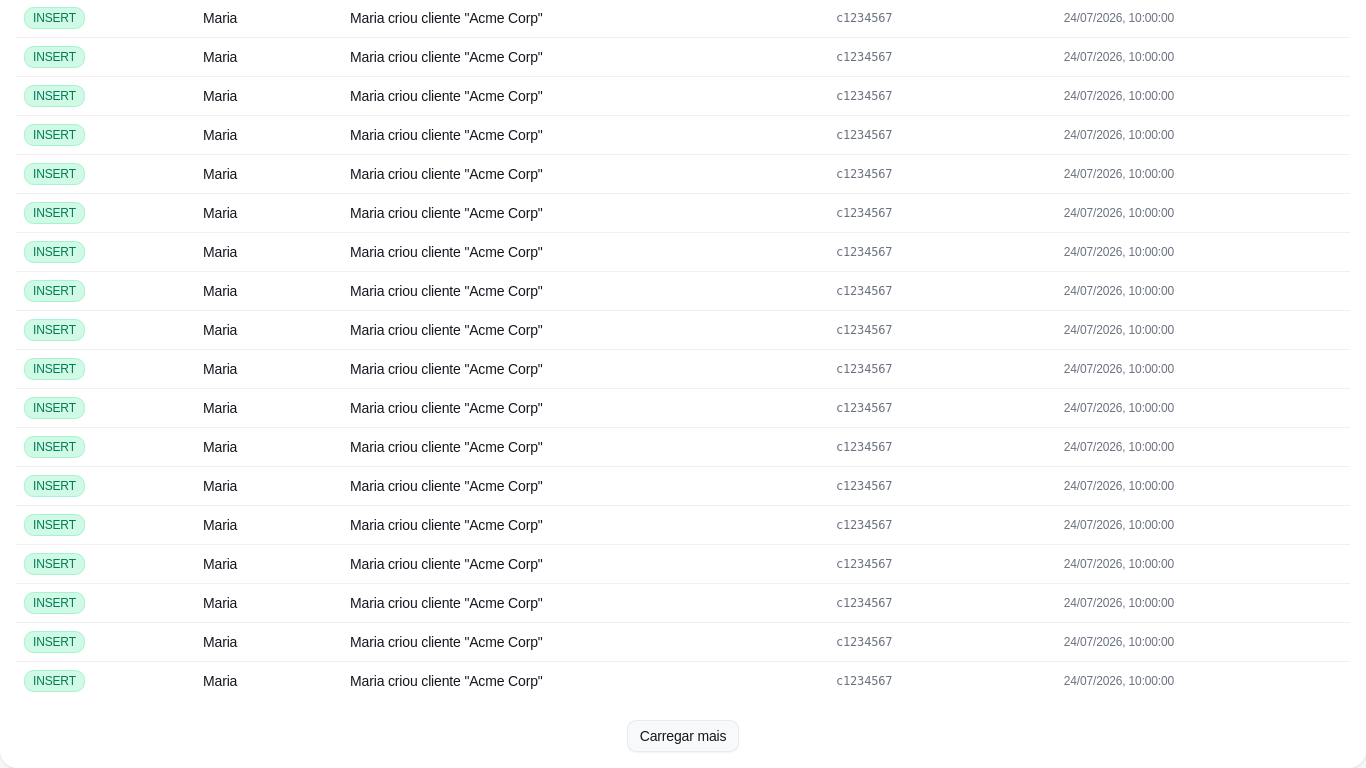
it: AuditLogView › carregar mais busca a próxima página e concatena resultados
(page scrolled)
Click the button "Carregar mais".
click(683, 736)  # box top-left (627, 720), bottom-right (739, 752)
(page scrolled)
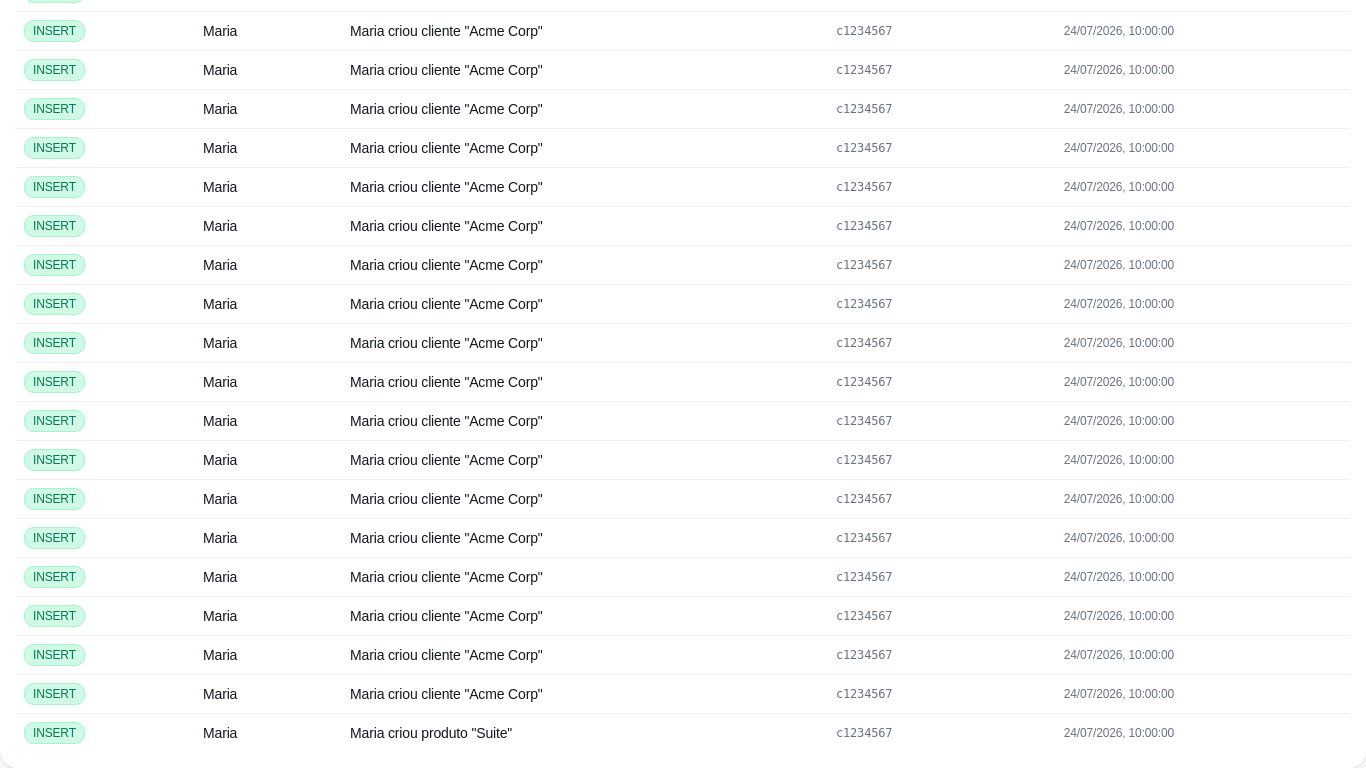
expect the text "Maria criou produto \"Suite\"" is shown: met, box top-left (342, 713), bottom-right (828, 752)
